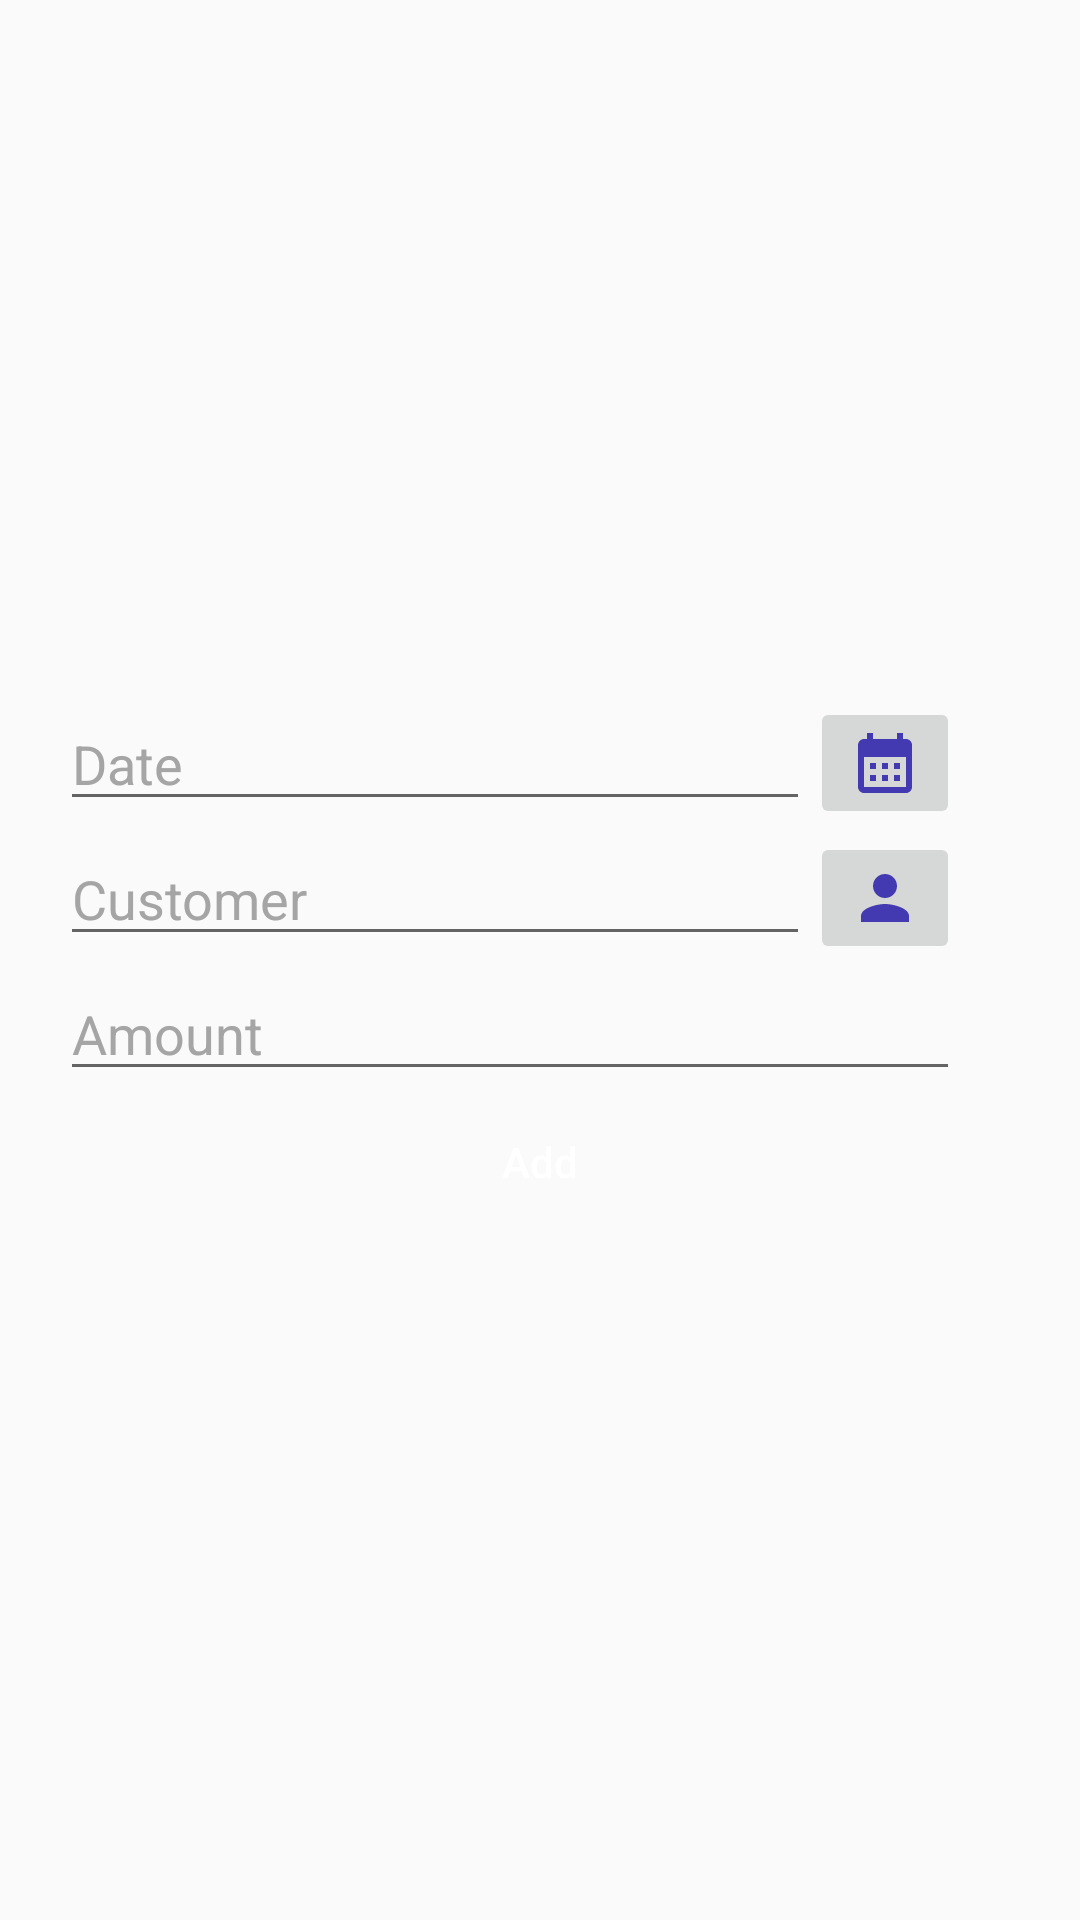

Point at icon controls on the screen. Image size 1080*1920, points as point (x, y).
calendar month: point (885, 763)
person: point (885, 898)
